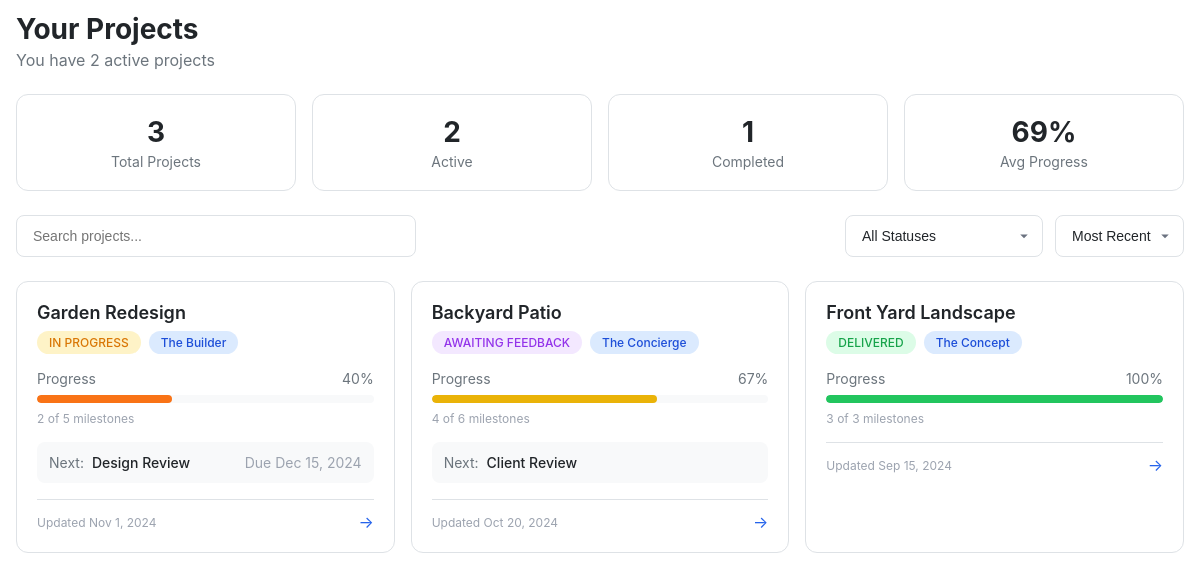
it: ProjectDashboard › interactions › should filter projects by search
In the field with placeholder "Search projects...": (216, 236) [16, 215, 416, 257], type "Garden"
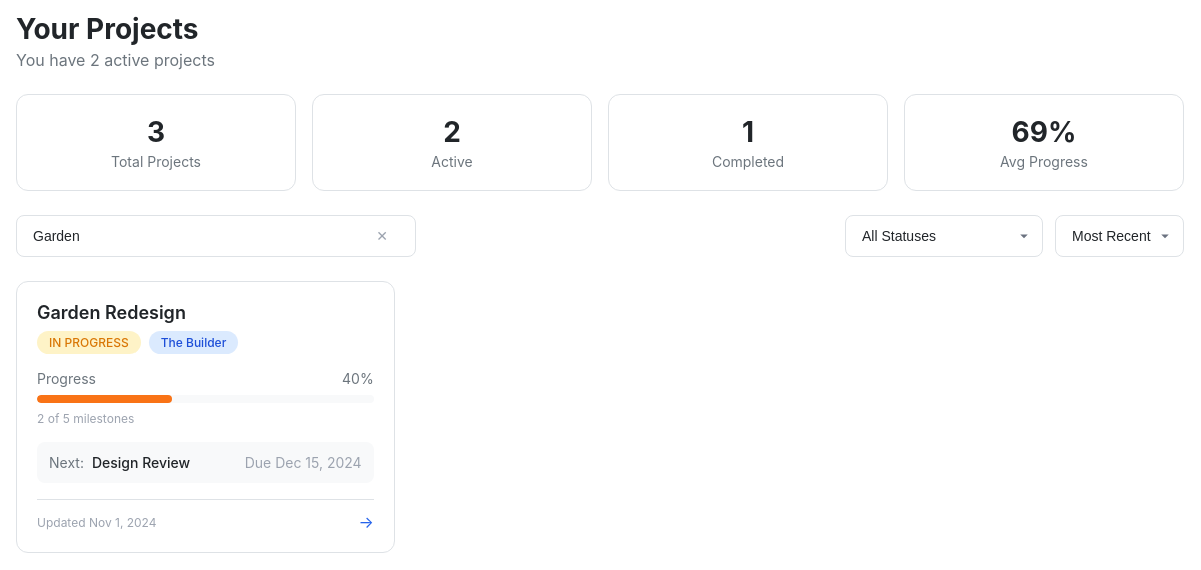
Check: the heading "Garden Redesign" is shown, box [37, 302, 186, 323]
Check: the button "Backyard Patio" is gone
